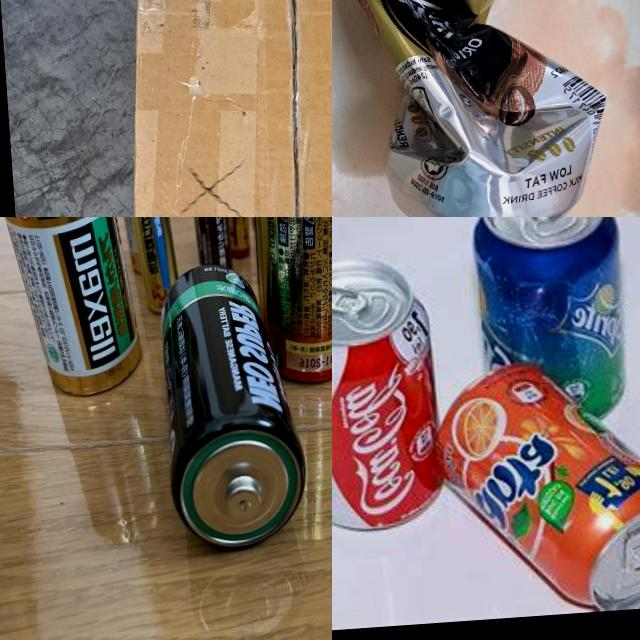aba de lata: (332, 280, 368, 315), (617, 523, 640, 574)
bateria: (148, 260, 310, 550), (0, 217, 142, 405), (237, 217, 332, 391), (129, 217, 184, 314), (178, 217, 235, 285), (104, 217, 155, 274), (215, 217, 253, 261)
lata: (332, 0, 615, 217), (428, 347, 640, 618), (332, 247, 450, 535), (469, 217, 631, 426)
papelão: (112, 0, 332, 217)
